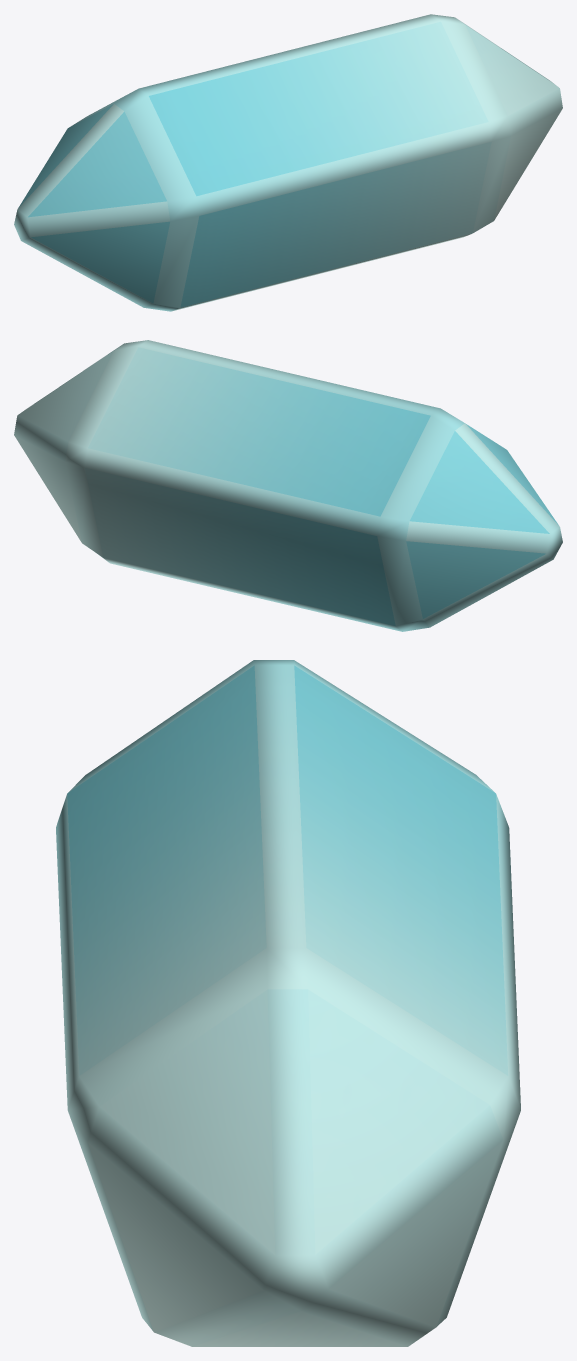
The model's file is christal_diamond_5.fbx.
3 renders of one model, top to bottom at view 1: azimuth 30°, elevation 25°; view 2: azimuth 150°, elevation 25°; view 3: azimuth 270°, elevation 25°, orthographic. The views are drawn at different scales.
Visible parts, largest first — view 1: christal_diamond_5; view 2: christal_diamond_5; view 3: christal_diamond_5.
Part boxes in pixels (x1,y1,x2,y2): christal_diamond_5: [14, 14, 562, 311]; christal_diamond_5: [14, 340, 562, 631]; christal_diamond_5: [56, 660, 520, 1346].
Size of the model in its own units: 64.29 by 22.77 by 24.56.
1 material, 1 textured.
